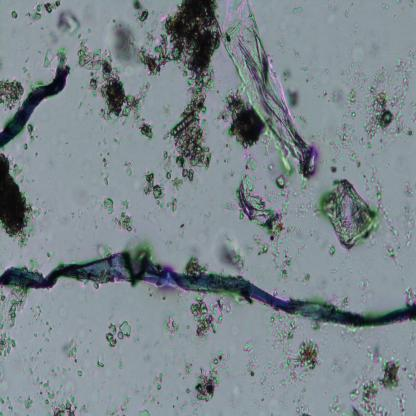Background material: (145, 0, 218, 213), (337, 42, 416, 157), (76, 40, 154, 142), (232, 168, 289, 258), (248, 320, 318, 387), (318, 180, 376, 251), (348, 349, 403, 415), (0, 148, 36, 247), (108, 21, 176, 73), (367, 169, 404, 264), (218, 92, 266, 145), (186, 348, 228, 402), (15, 345, 59, 393), (326, 262, 370, 306), (0, 290, 26, 363), (189, 293, 230, 337), (273, 254, 314, 290), (214, 234, 248, 273), (28, 303, 60, 342), (160, 218, 198, 249), (102, 196, 134, 230), (400, 182, 416, 249), (315, 70, 341, 109), (142, 367, 169, 403), (332, 328, 371, 352), (105, 389, 138, 416), (69, 191, 97, 222), (46, 388, 78, 415), (104, 320, 133, 348), (25, 1, 62, 20), (0, 79, 25, 107), (62, 343, 83, 376), (94, 158, 116, 188), (57, 10, 81, 35), (290, 43, 308, 74), (132, 1, 154, 26), (42, 52, 66, 70), (23, 254, 44, 274), (295, 386, 310, 414), (285, 84, 300, 111), (326, 352, 342, 377), (0, 394, 17, 415), (164, 315, 180, 335), (344, 0, 362, 17), (17, 396, 35, 412), (330, 394, 344, 414), (114, 356, 129, 374), (94, 350, 105, 372), (401, 287, 416, 303), (324, 1, 340, 15), (275, 37, 290, 51), (124, 160, 135, 179), (288, 6, 304, 19), (380, 1, 390, 11), (11, 8, 18, 21), (140, 407, 150, 415), (86, 24, 94, 34)
Cellulose filter fibre: (212, 0, 309, 164)
Cotton: (0, 249, 416, 327), (0, 65, 68, 148)
